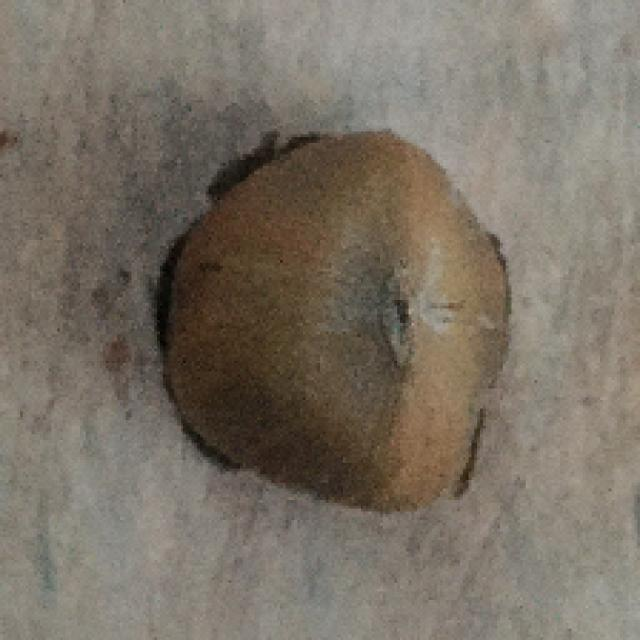damagedHazelnut: (156, 126, 509, 515)
